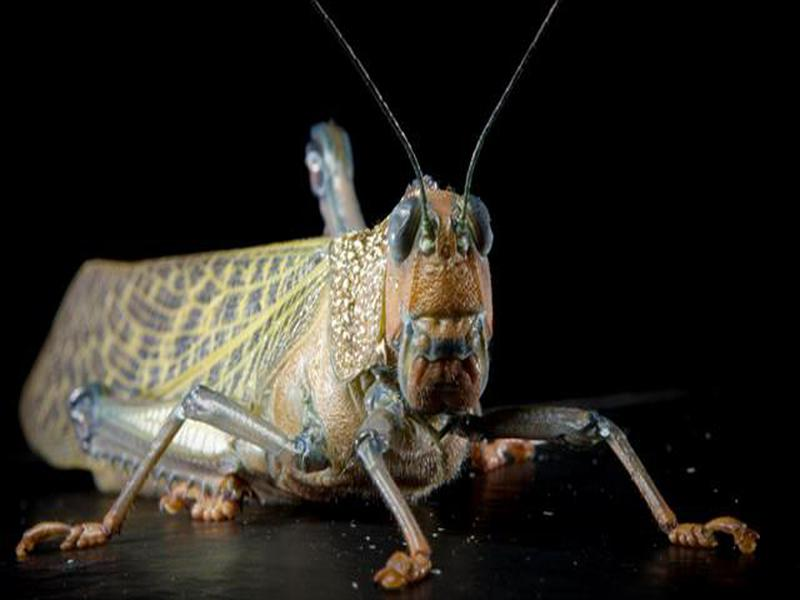Grasshopper: (36, 184, 504, 522)
